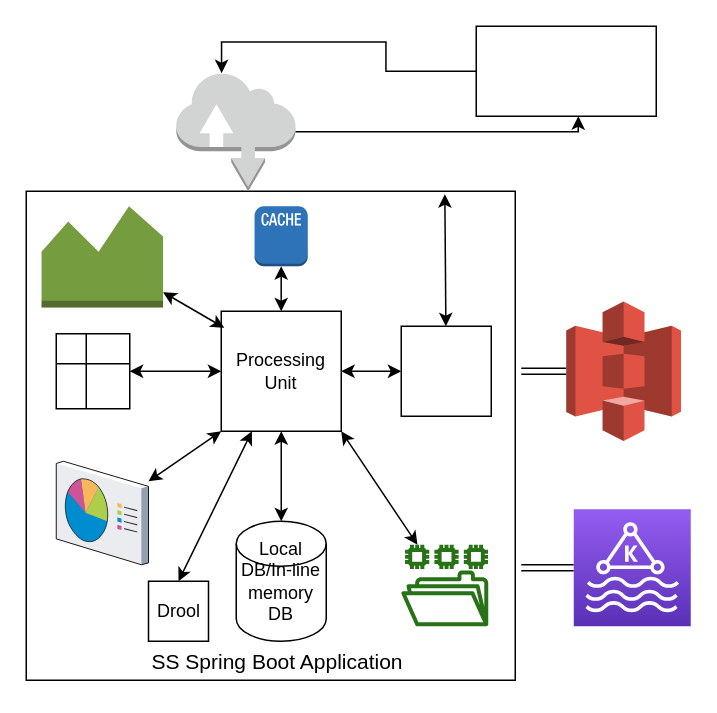
The diagram is 717 pixels wide and 713 high, and some of its shapes have lost their labels. The shapes that lost their labels are listed below. From the top down, each one's box as (x1, y1, x2, y2) in pixels, then its label:
(475, 25, 656, 116): CS application
(400, 325, 491, 416): Rest call to SS
